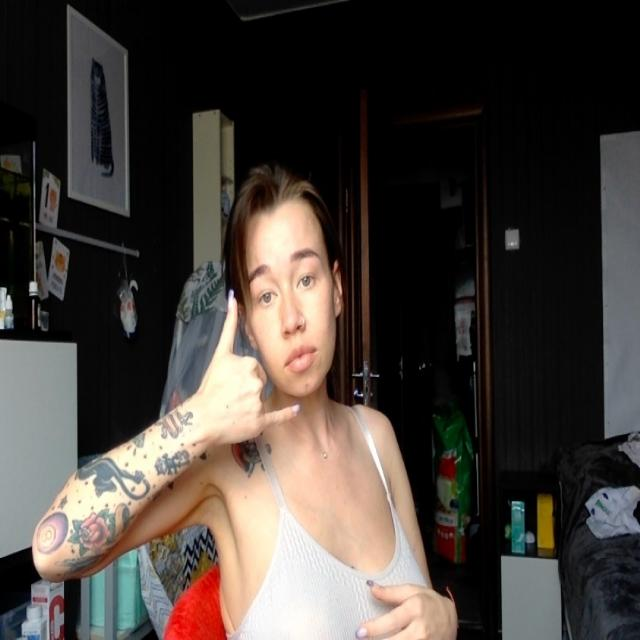call: (192, 283, 305, 454)
